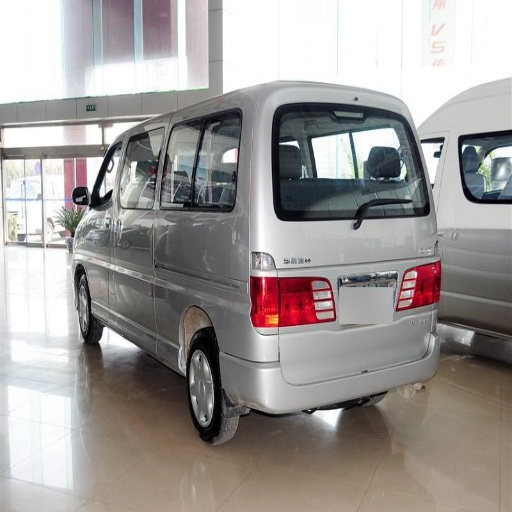back_bumper: (224, 309, 438, 414)
back_left_light: (249, 273, 280, 332)
back_right_door: (86, 224, 110, 305)
front_left_door: (89, 134, 157, 269)
trunk: (138, 199, 419, 381)
